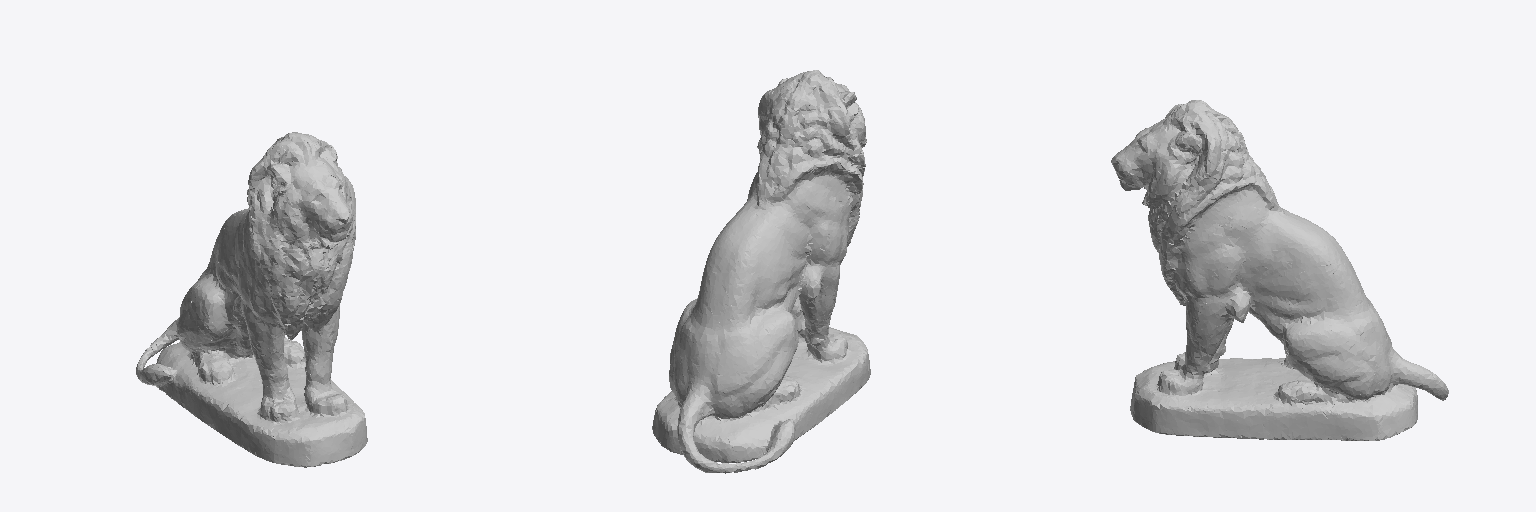
The model's file is lion.obj.
3 renders of one model, left to right at view 1: azimuth 30°, elevation 25°; view 2: azimuth 150°, elevation 25°; view 3: azimuth 270°, elevation 25°, orthographic.
Visible parts, largest first — view 1: LionSitting.001; view 2: LionSitting.001; view 3: LionSitting.001.
Boxes of the visible parts, x1,y1,x2,y2 form: LionSitting.001: [136, 132, 367, 467]; LionSitting.001: [652, 70, 870, 473]; LionSitting.001: [1111, 100, 1448, 440].
Size of the model in its own units: 9.04 by 19.67 by 19.68.